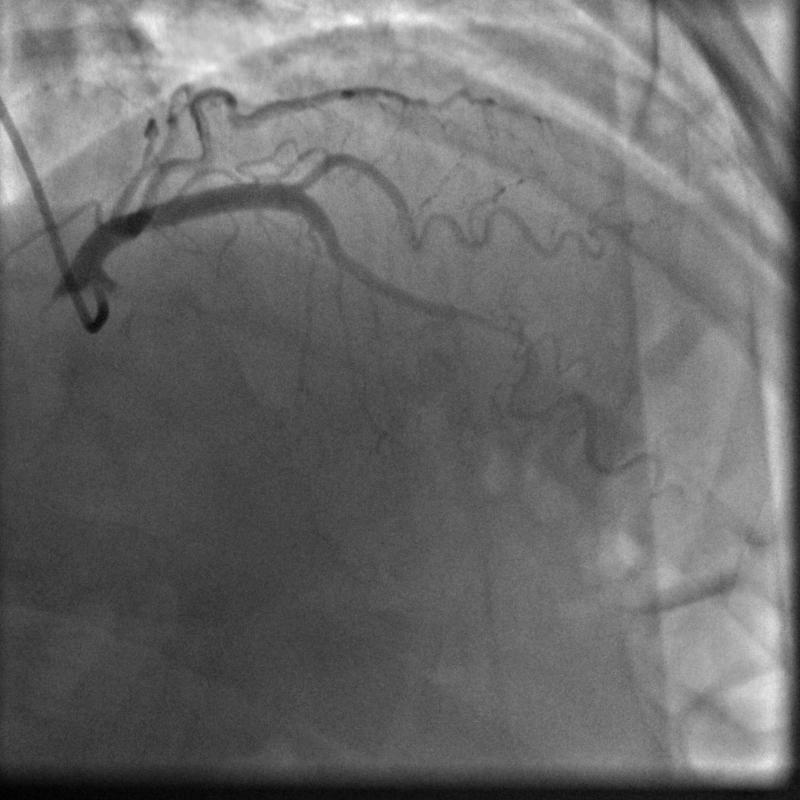Stenosis: (474, 300, 525, 355)
